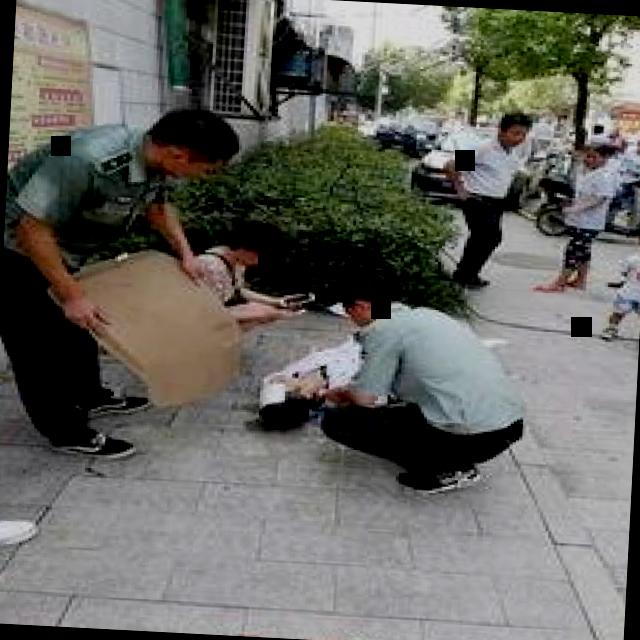Fall-Detected: (237, 304, 371, 434)
